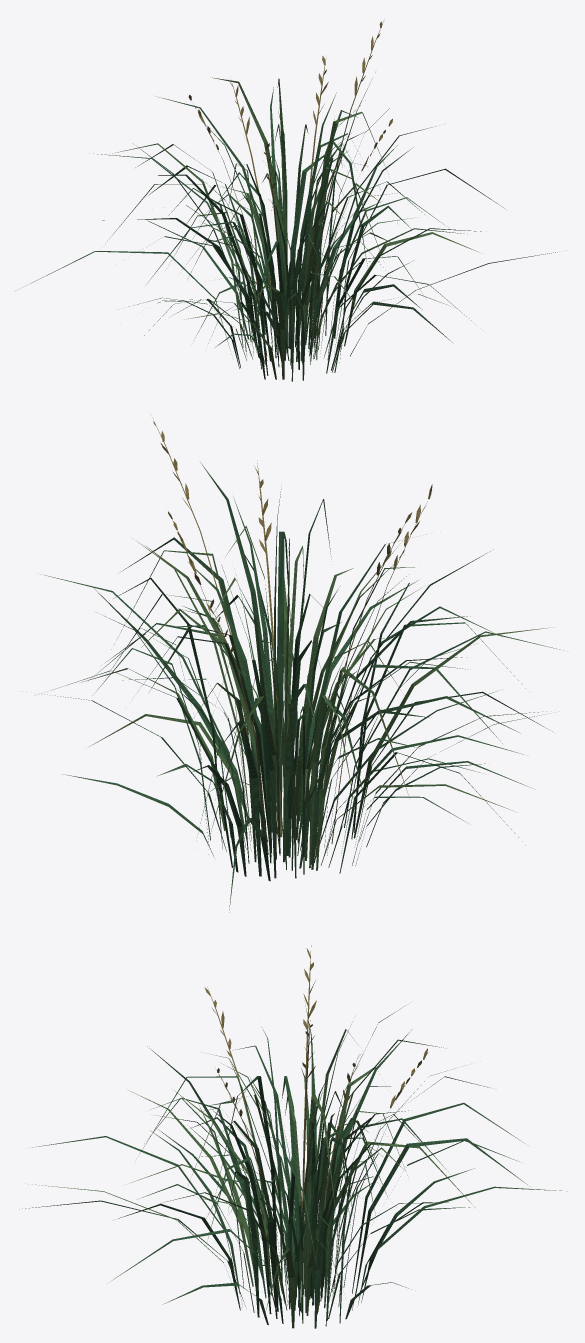
The model's file is sheep-fescue.glb.
The picture shows the model from 3 angles, top to bottom: view 1: azimuth 30°, elevation 25°; view 2: azimuth 150°, elevation 25°; view 3: azimuth 270°, elevation 25°; orthographic projection. The views are drawn at different scales.
Visible parts, largest first — view 1: Sheep Fescue; view 2: Sheep Fescue; view 3: Sheep Fescue.
Part boxes in pixels (<box>): Sheep Fescue: <box>30,21,557,381</box>; Sheep Fescue: <box>41,417,560,912</box>; Sheep Fescue: <box>19,945,567,1328</box>.
Bounding box in the file's own units: 0.5137 × 0.3451 × 0.5188.
Materials: 1 (1 with a texture image).
